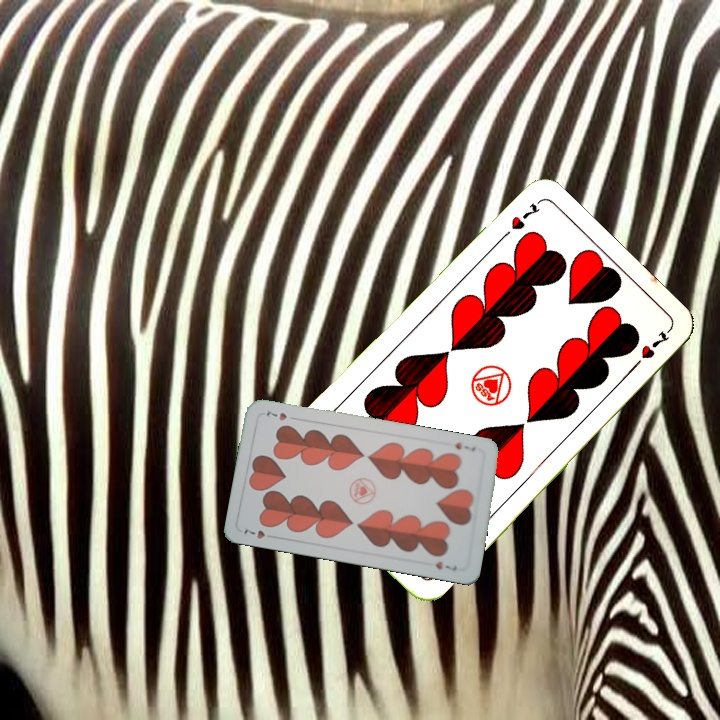H7: (495, 198, 543, 244), (240, 525, 279, 542), (451, 438, 478, 454)
